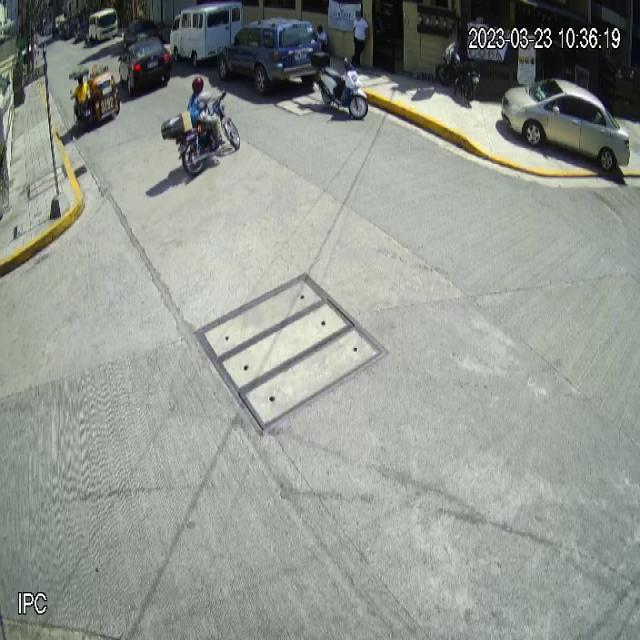Car: (501, 79, 631, 172), (217, 16, 322, 96), (118, 36, 172, 98)
Motorcycle: (161, 88, 241, 176), (311, 52, 369, 121)
Van: (170, 0, 243, 67)
